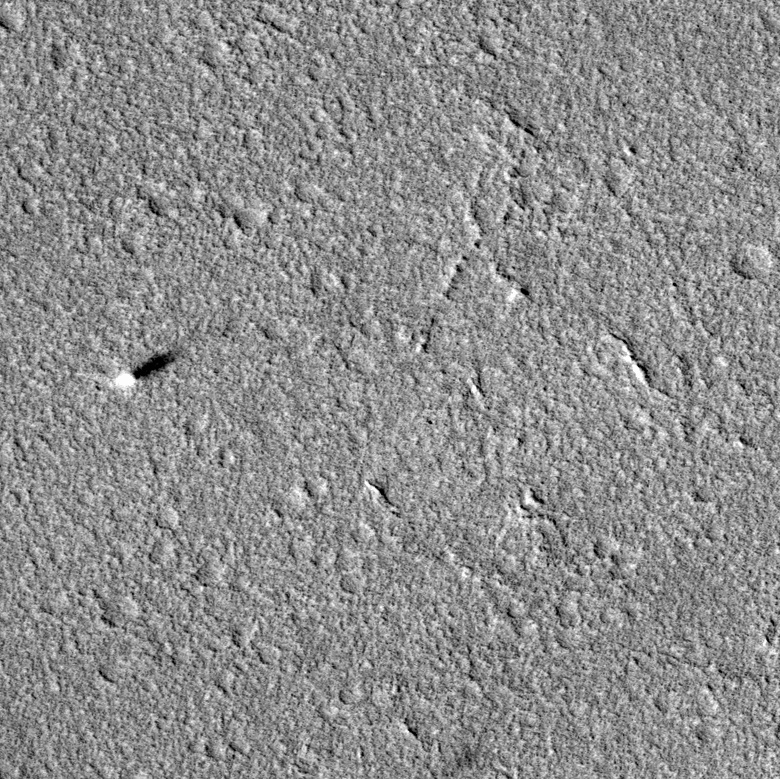dust_devil: (108, 349, 181, 393)
